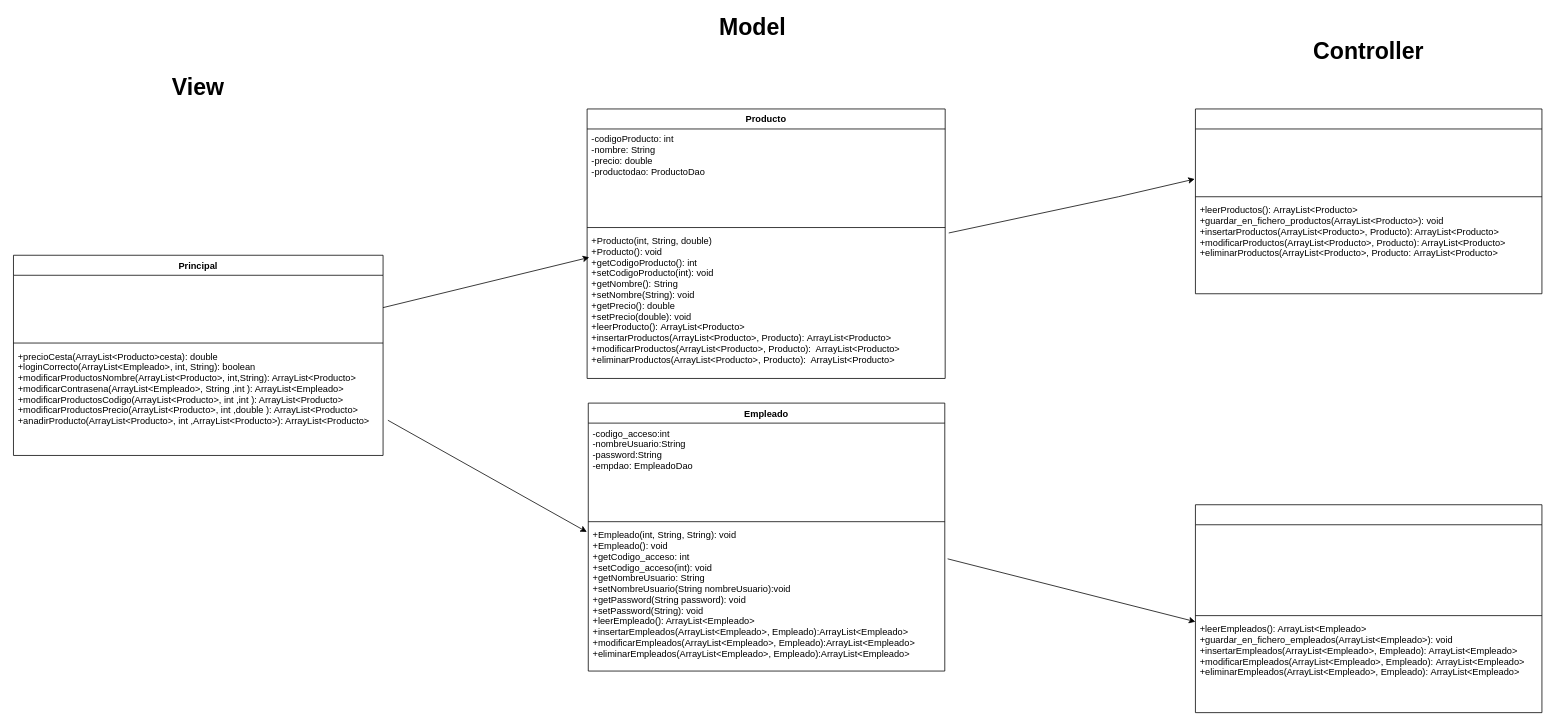
This 1555x728 diagram has some shape labels left out. The box of each missing label's shape, as (x1, y1, x2, y2) in pixels:
EmpleadoDao: (1195, 504, 1542, 713)
ProductoDao: (1195, 108, 1542, 294)
